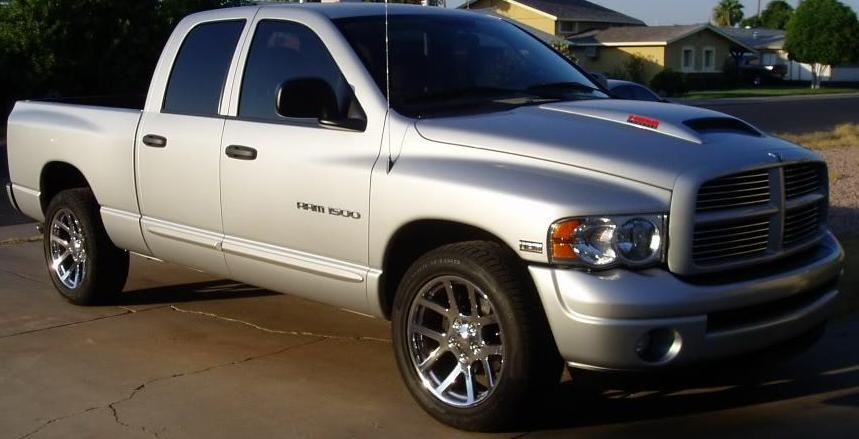front_view: (542, 155, 847, 385)
headlight: (536, 195, 668, 292)
side_glass: (157, 8, 379, 144)
